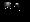person: (13, 5, 22, 16), (5, 4, 12, 12)
